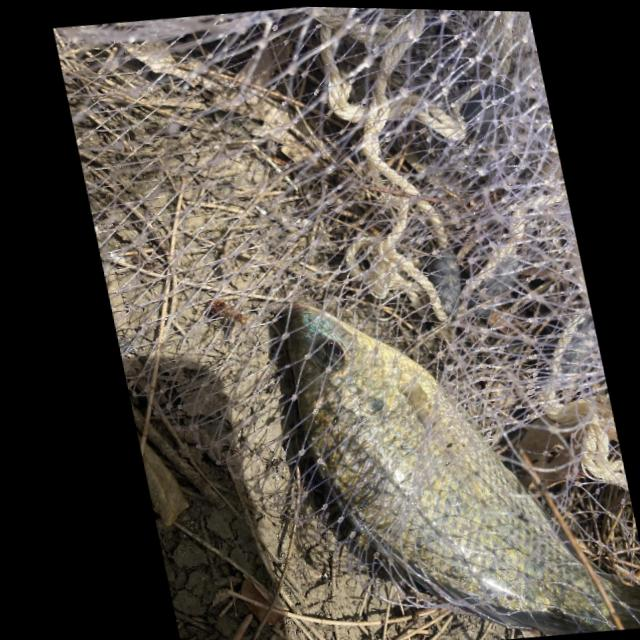Tilapia: (270, 272, 640, 640)
